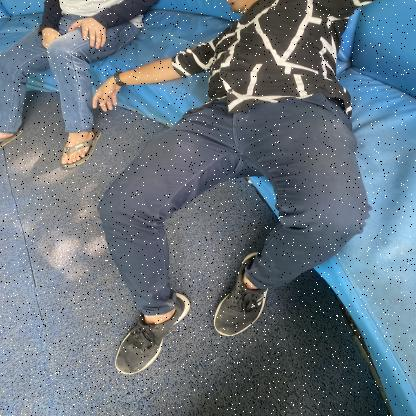hand: (82, 56, 218, 115), (62, 11, 127, 51)
leg: (198, 210, 369, 351), (65, 224, 202, 384), (59, 103, 100, 174)
